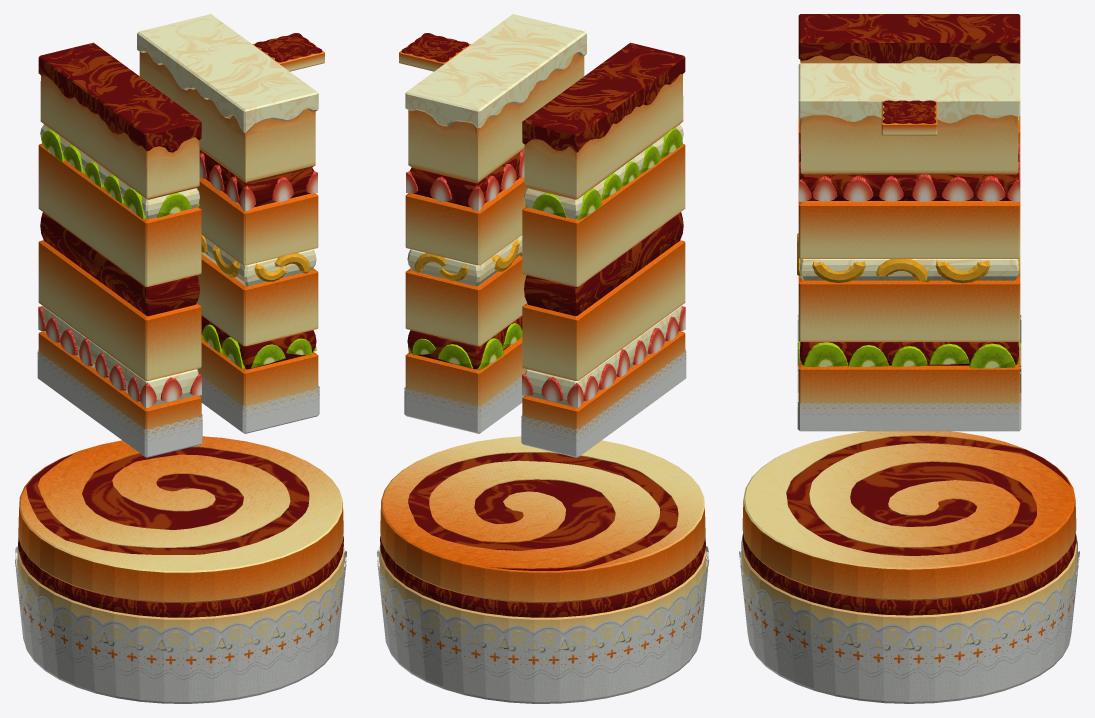
File: cake_newBlend.fbx
The picture shows the model from 3 angles, left to right: view 1: azimuth 30°, elevation 25°; view 2: azimuth 150°, elevation 25°; view 3: azimuth 270°, elevation 25°; orthographic projection. The views are drawn at different scales.
Parts seen in each view (by area): view 1: cake, choco, lace, cream, berry, kiwi, orange; view 2: cake, choco, lace, cream, berry, kiwi, orange; view 3: cake, choco, lace, cream, kiwi, berry, orange.
Boxes of the visible parts, x1,y1,x2,y2 form: cake: (17,33,344,668); choco: (18,33,343,617); lace: (15,349,346,703); cream: (40,14,318,406); berry: (38,152,317,408); kiwi: (41,129,316,368); orange: (201,235,310,281); cake: (379,33,706,668); choco: (380,33,705,617); lace: (377,349,708,703); cream: (405,14,683,406); berry: (406,149,685,408); kiwi: (408,128,682,370); orange: (414,238,522,281); cake: (741,55,1077,667); choco: (742,14,1076,615); lace: (739,315,1079,703); cream: (798,63,1020,280); kiwi: (798,116,1020,368); berry: (799,143,1020,201); orange: (797,233,1020,283).
Size of the model in its own units: 309 by 576 by 309.
7 materials, 7 textured.
